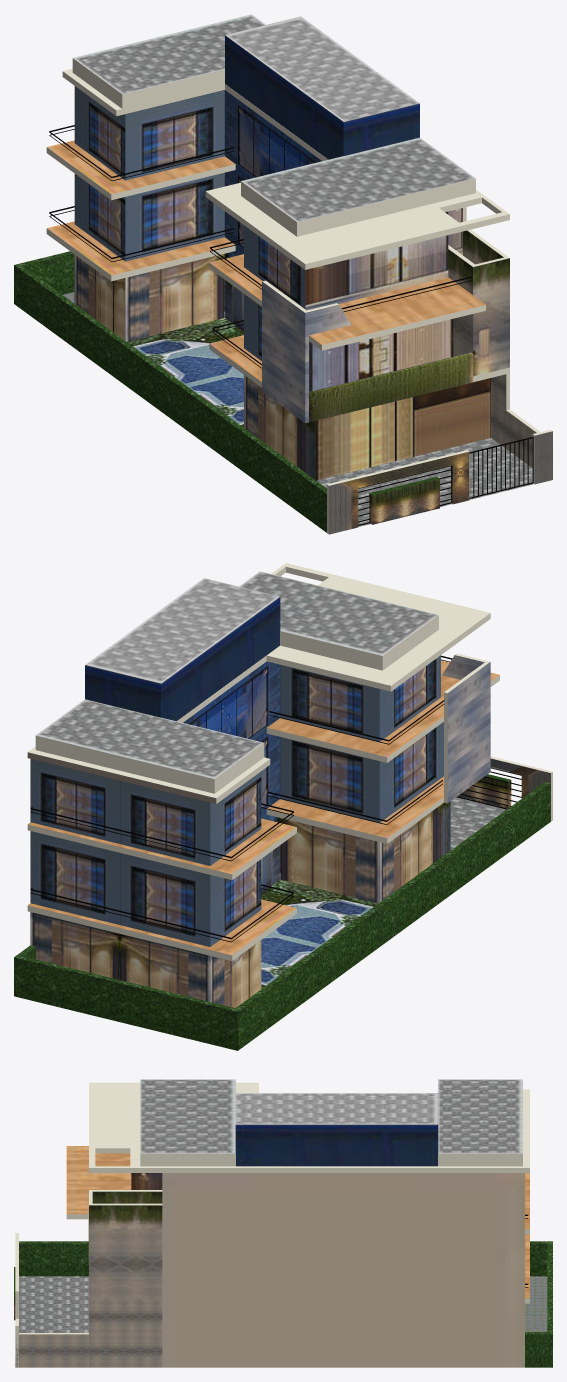
3 renders of one model, top to bottom at view 1: azimuth 30°, elevation 25°; view 2: azimuth 150°, elevation 25°; view 3: azimuth 270°, elevation 25°, orthographic. The views are drawn at different scales.
Parts seen in each view (by area): view 1: 5eb8be8e1128d113bc24ab49; view 2: 5eb8be8e1128d113bc24ab49; view 3: 5eb8be8e1128d113bc24ab49.
Part boxes in pixels (<box>): 5eb8be8e1128d113bc24ab49: <box>14,14,552,534</box>; 5eb8be8e1128d113bc24ab49: <box>14,563,552,1050</box>; 5eb8be8e1128d113bc24ab49: <box>14,1079,552,1367</box>.
Bounding box in the file's own units: 12 × 14.51 × 29.33.
1 material, 1 textured.
